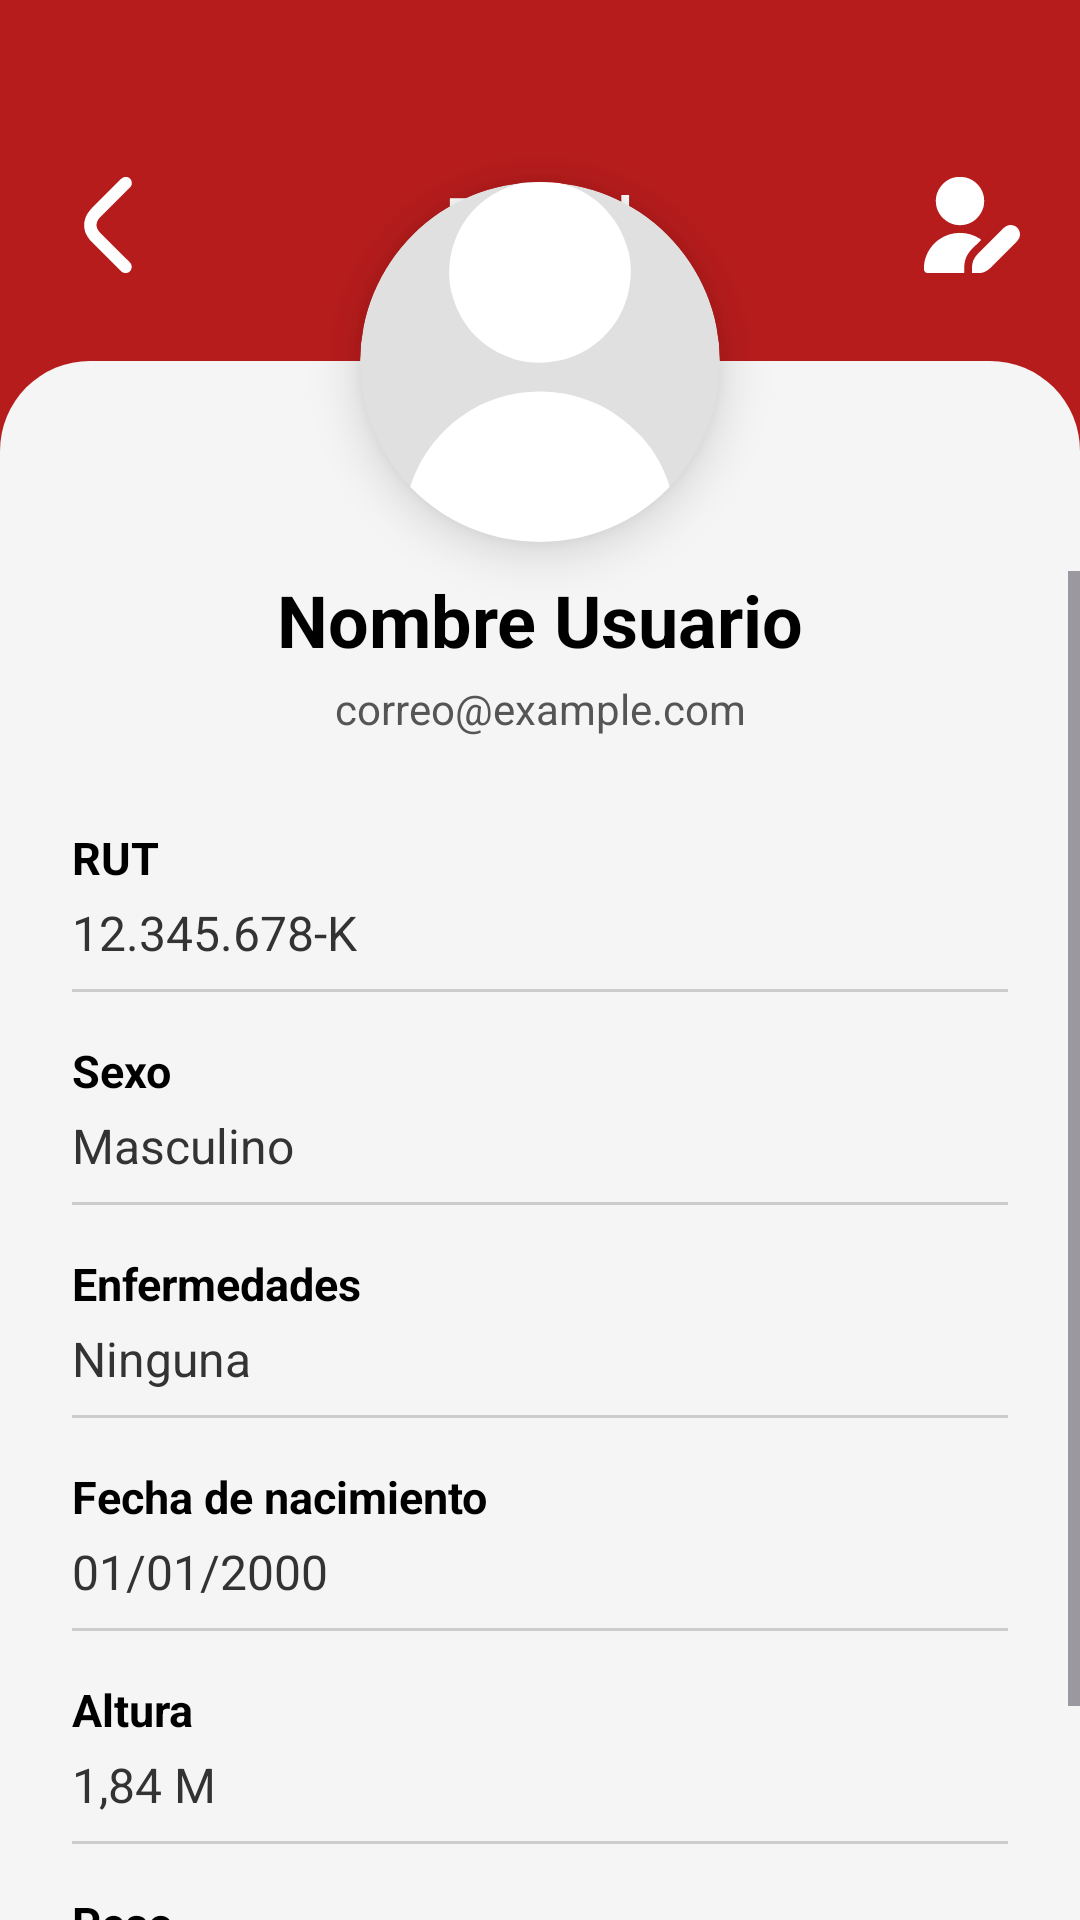

Screen size 1080 x 1920. Icon name, then its center in pixels as (x=x, y=y):
back arrow: (x=108, y=225)
edit: (x=972, y=225)
